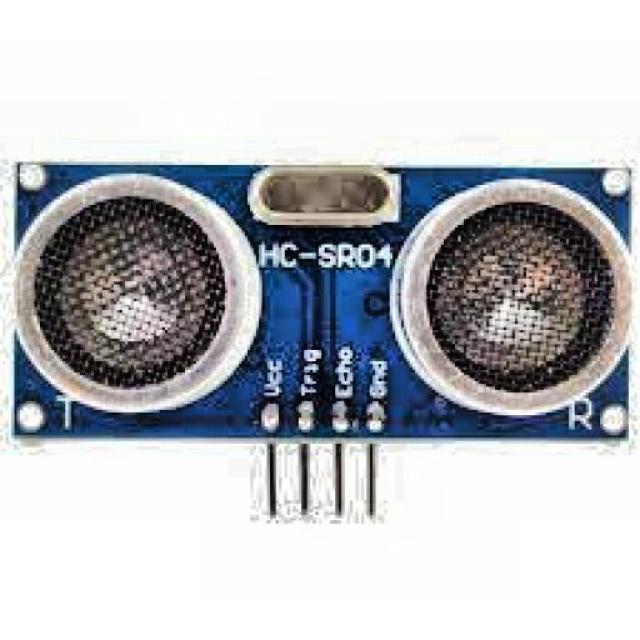Ultrasonic Sensor: (7, 150, 638, 510)
